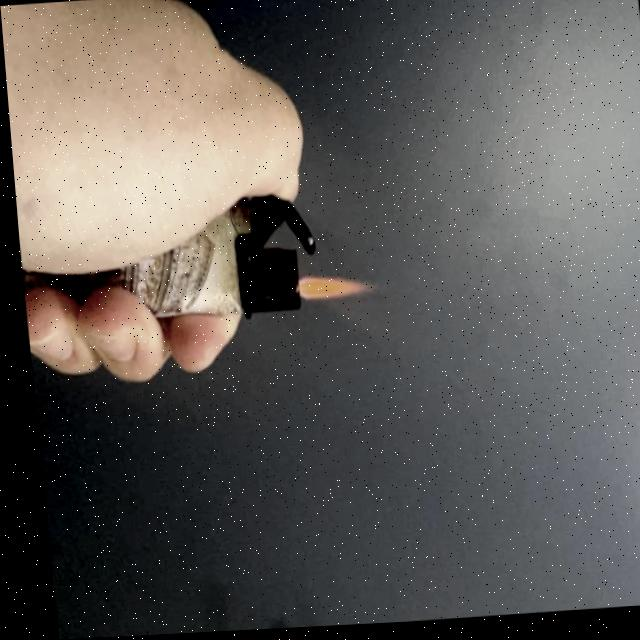Fire: (292, 275, 372, 308)
